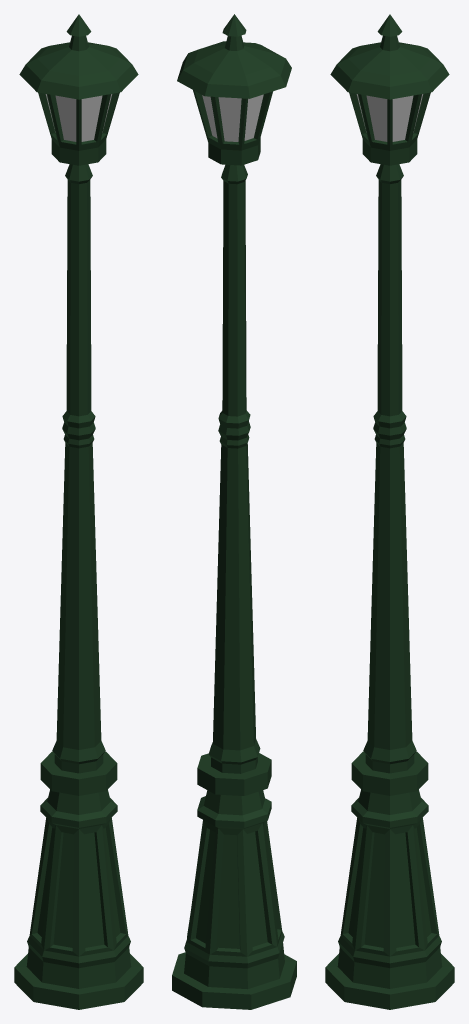
File: streetlight_single.glb
3 renders of one model, left to right at view 1: azimuth 90°, elevation 25°; view 2: azimuth 150°, elevation 25°; view 3: azimuth 270°, elevation 25°, orthographic.
Parts seen in each view (by area): view 1: Green, Glass; view 2: Green, Glass; view 3: Green, Glass.
Boxes of the visible parts, x1,y1,x2,y2 form: Green: (14,14,143,1009); Glass: (45,94,112,141); Green: (172,14,296,1009); Glass: (202,94,263,141); Green: (325,14,454,1009); Glass: (356,94,423,141).
Size of the model in its own units: 0.1317 by 1.09 by 0.1317.
